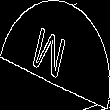M_S: (34, 24, 76, 86)
